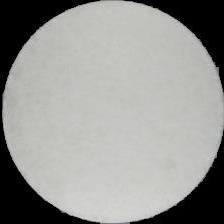0378-2063: (0, 0, 224, 224)
